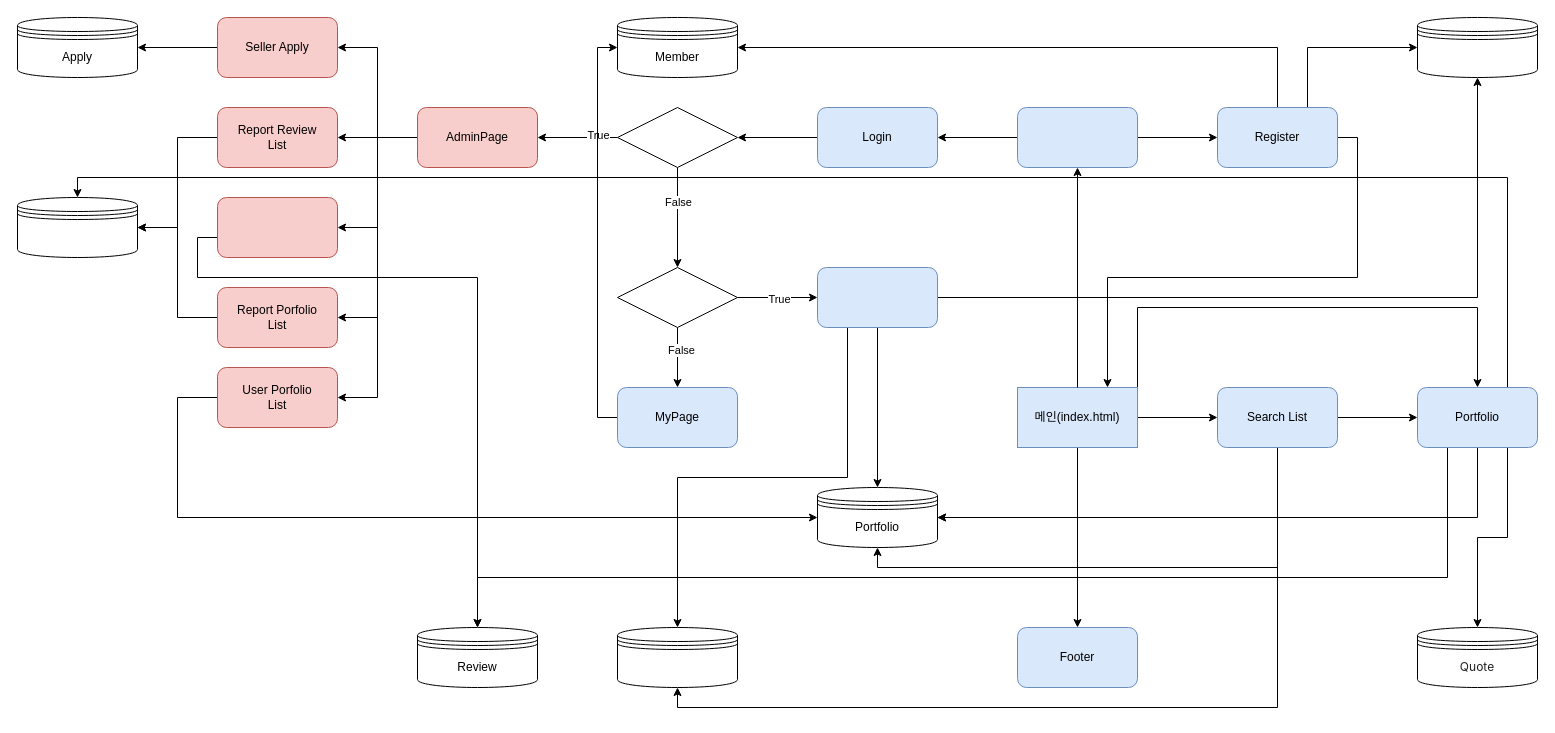
The diagram is 1555 pixels wide and 733 high, and some of its shapes have lost their labels. The shapes that lost their labels are listed below. From the top down, each one's centre as x and y in pixels, then its label:
At (1477,47): "Image".
At (677,137): "isAdmin?".
At (1077,137): "Header".
At (77,227): "Report".
At (277,227): "User Review List".
At (677,297): "isSeller?".
At (877,297): "Seller Portfolio Manager".
At (677,657): "Tag".
